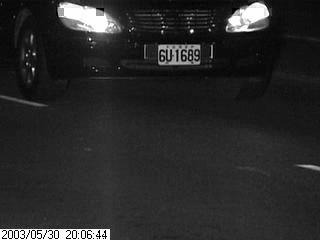plate: (156, 43, 203, 68)
